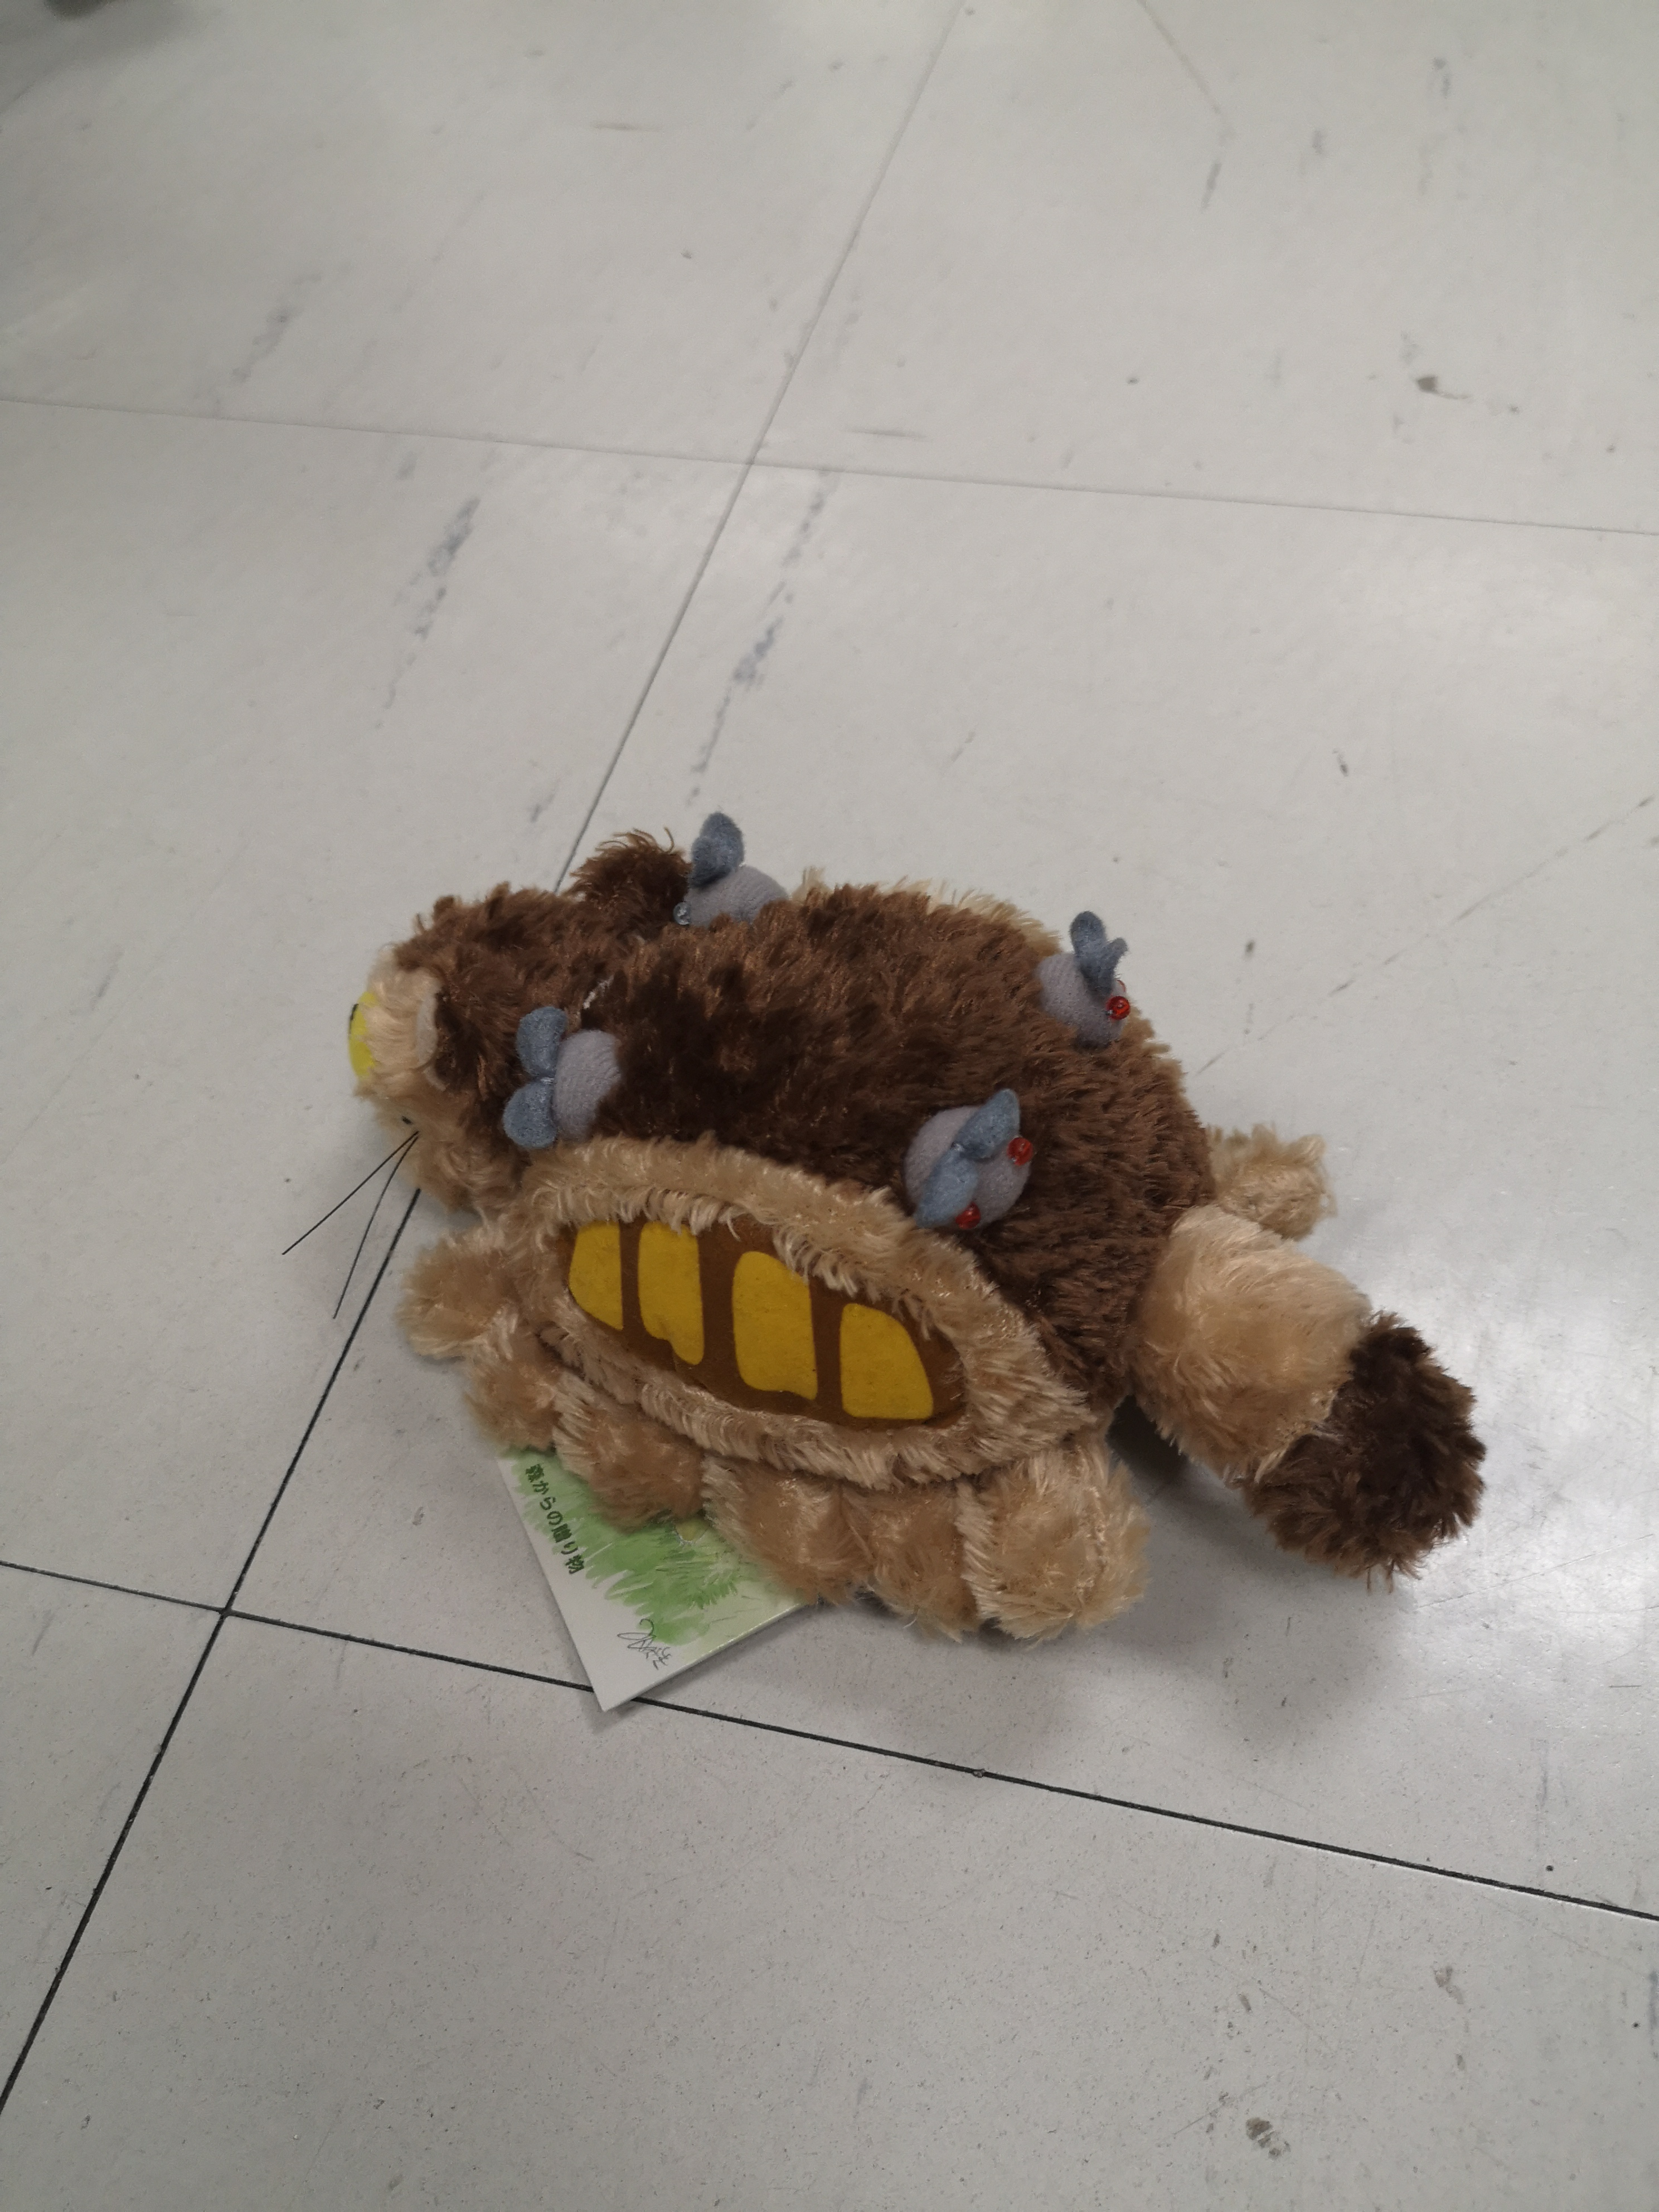nekobus: (272, 806, 1495, 1660)
